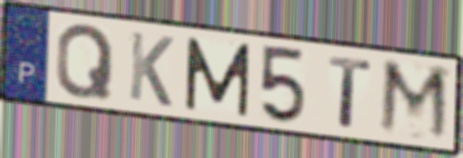5: (257, 42, 309, 126)
K: (126, 28, 176, 110)
M: (376, 56, 453, 146), (183, 35, 253, 119)
Q: (53, 21, 116, 100)
T: (327, 53, 375, 131)
